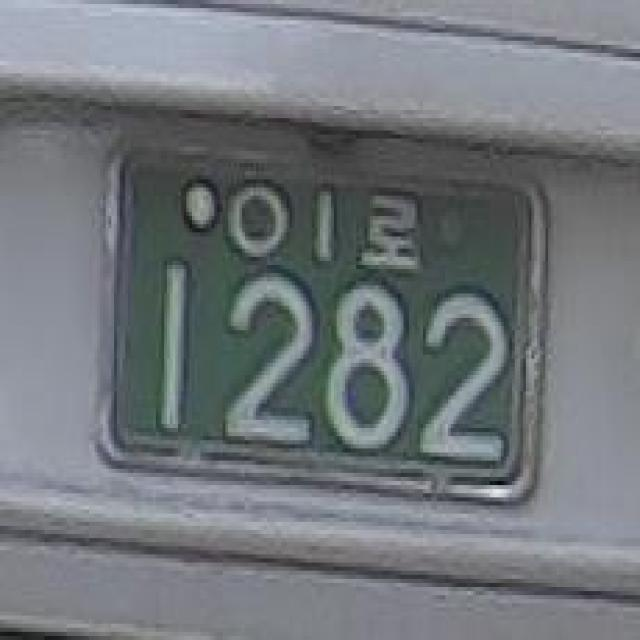illegal_plate: (83, 123, 562, 529)
